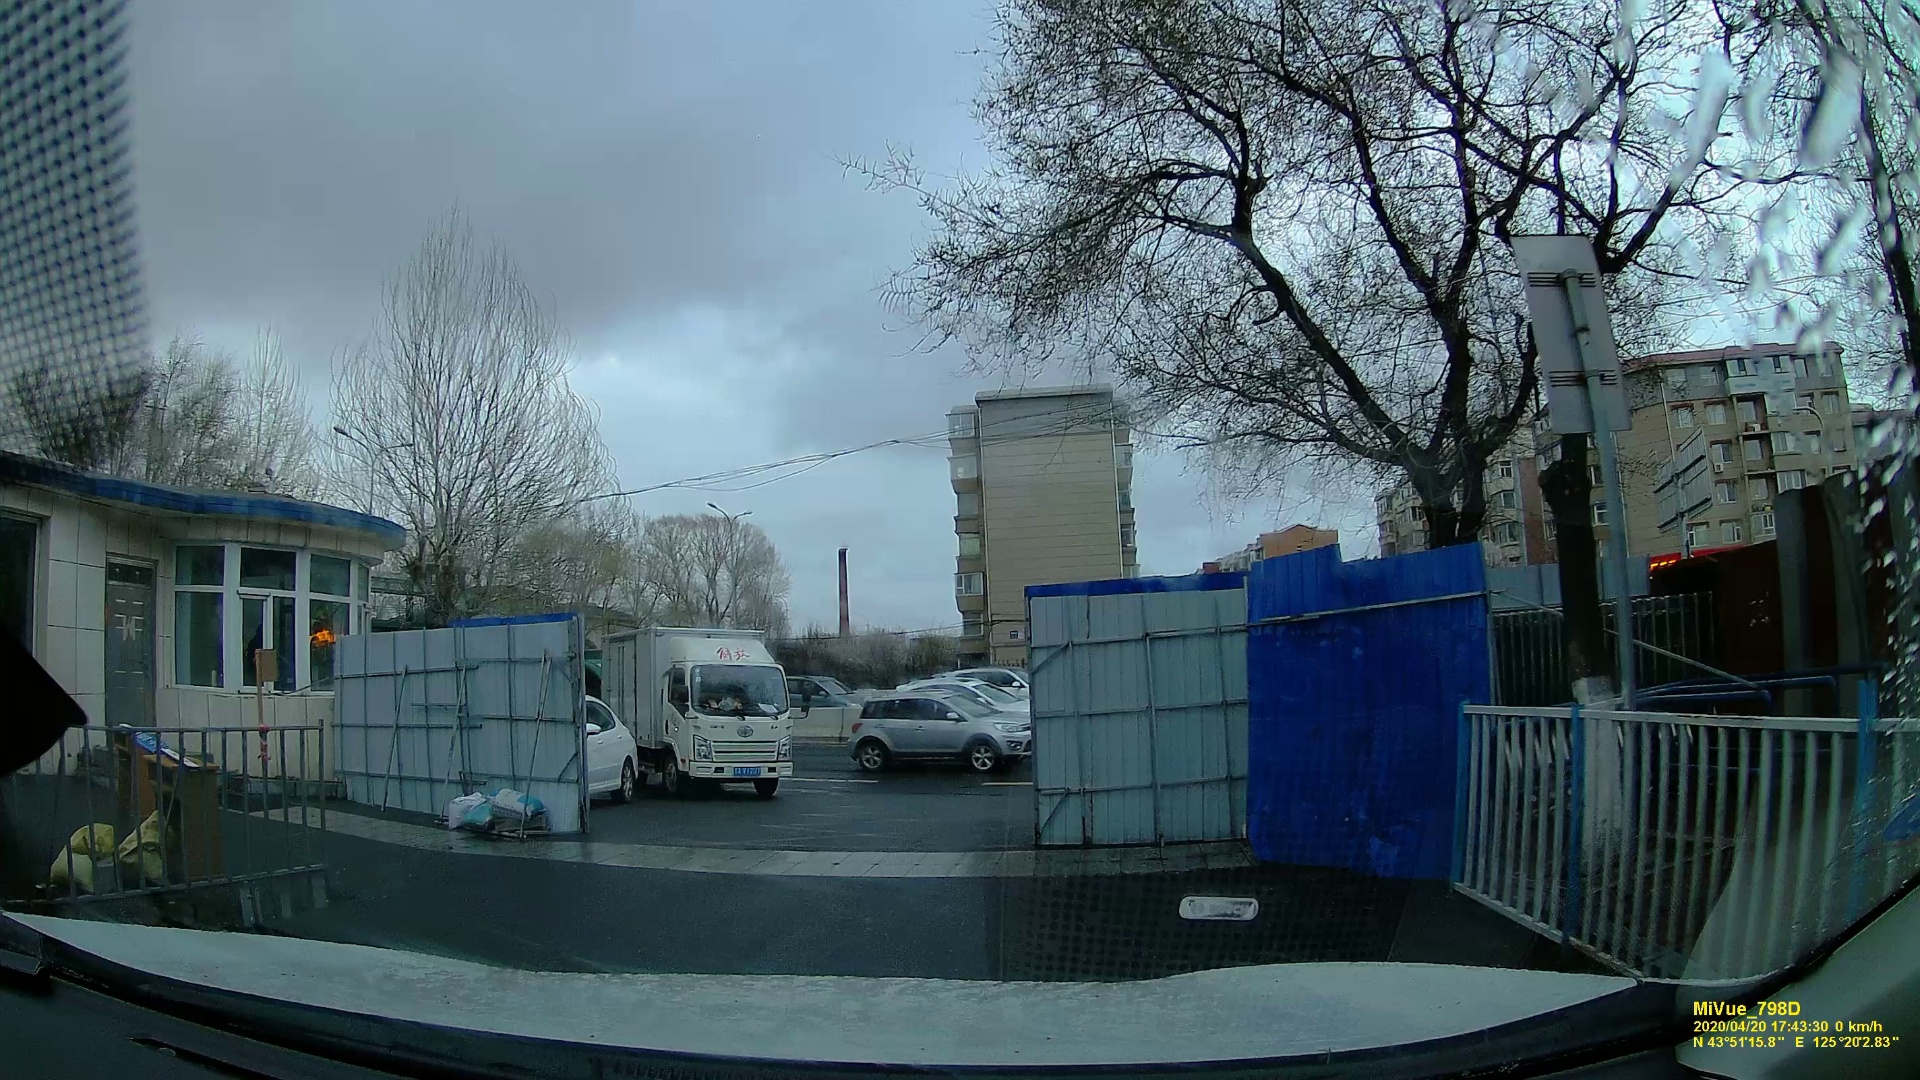truck: (597, 621, 803, 808)
vehicle: (847, 691, 1030, 770)
